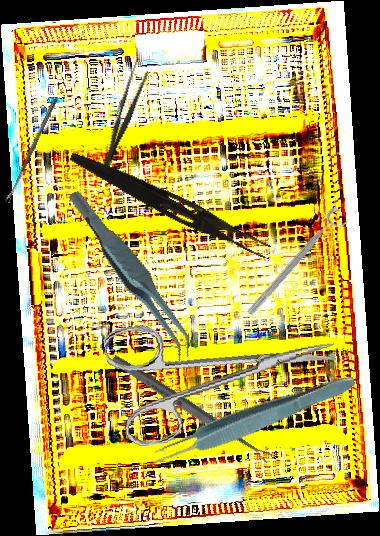Dressing Forceps: (64, 148, 275, 261), (95, 55, 153, 176)
Fixation Ring: (243, 205, 352, 324)
Iris Scissors: (102, 295, 345, 451)
Surgical Spoon: (109, 352, 274, 466), (4, 97, 58, 204)
Tissue Forceps: (67, 173, 197, 376), (146, 367, 359, 471)
